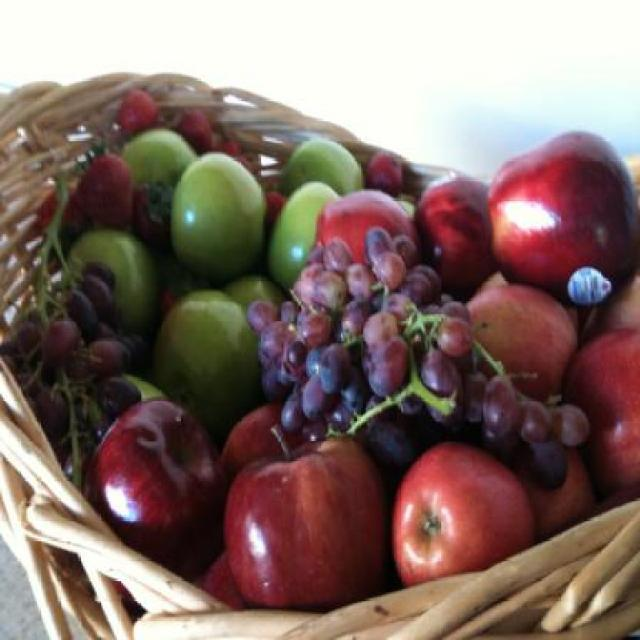Apple pie: (55, 126, 640, 609), (392, 450, 520, 590)
